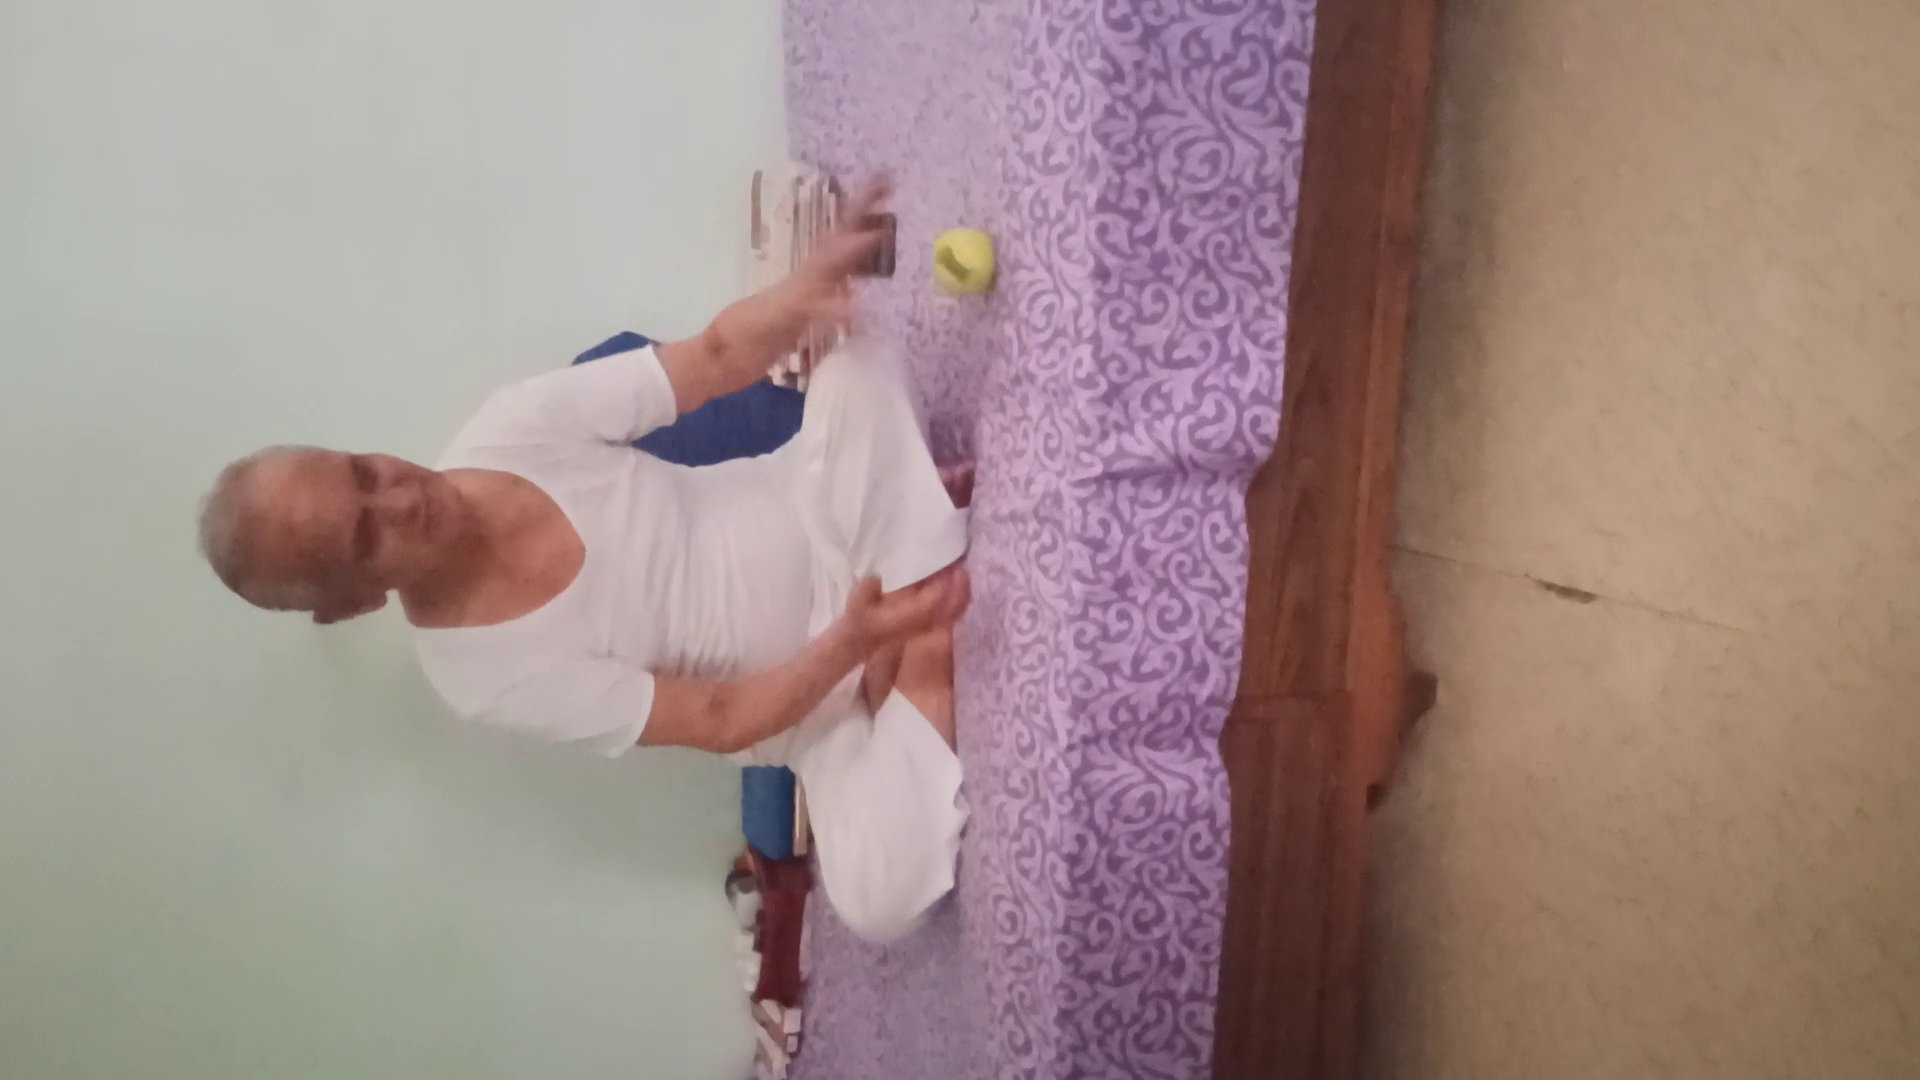Tennis-Ball: (928, 227, 996, 291)
